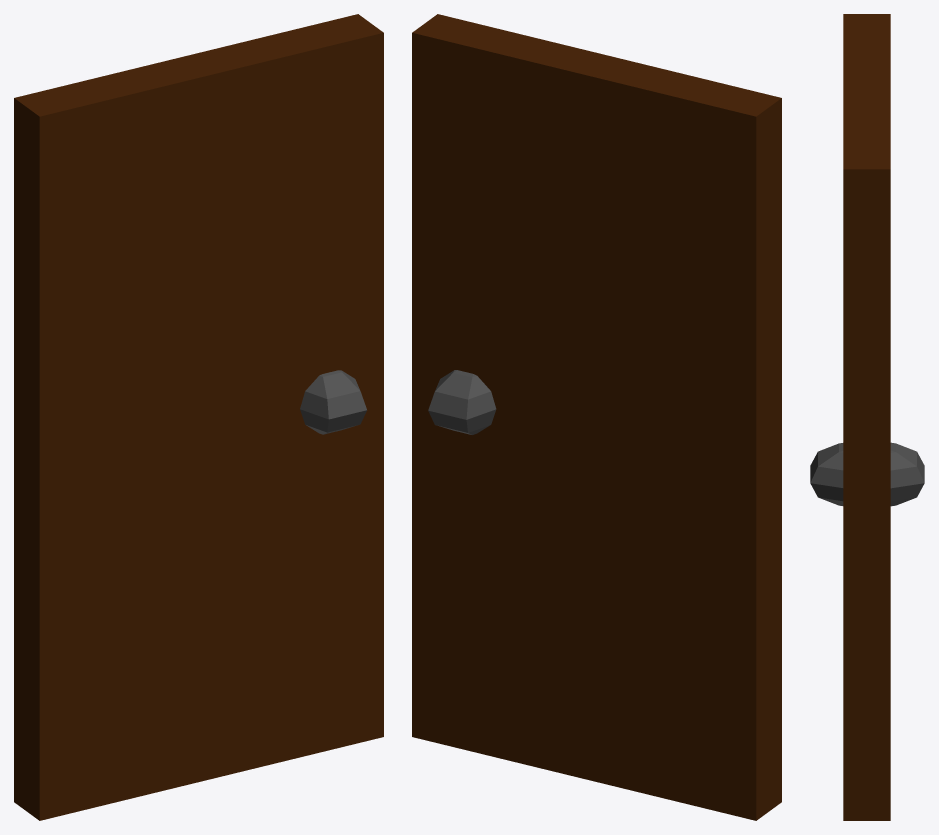
Rendered from Door.fbx.
The picture shows the model from 3 angles, left to right: view 1: azimuth 30°, elevation 25°; view 2: azimuth 150°, elevation 25°; view 3: azimuth 270°, elevation 25°; orthographic projection. The views are drawn at different scales.
Parts seen in each view (by area): view 1: Door, DoorKnob; view 2: Door, DoorKnob; view 3: Door, DoorKnob.
Part boxes in pixels (left/top/right/bottom): Door: left=14, top=14, right=383, bottom=820; DoorKnob: left=300, top=370, right=366, bottom=434; Door: left=412, top=14, right=781, bottom=820; DoorKnob: left=428, top=370, right=496, bottom=434; Door: left=843, top=14, right=890, bottom=820; DoorKnob: left=810, top=442, right=924, bottom=506.
Size of the model in its own units: 0.5442 by 1.06 by 0.1694.
